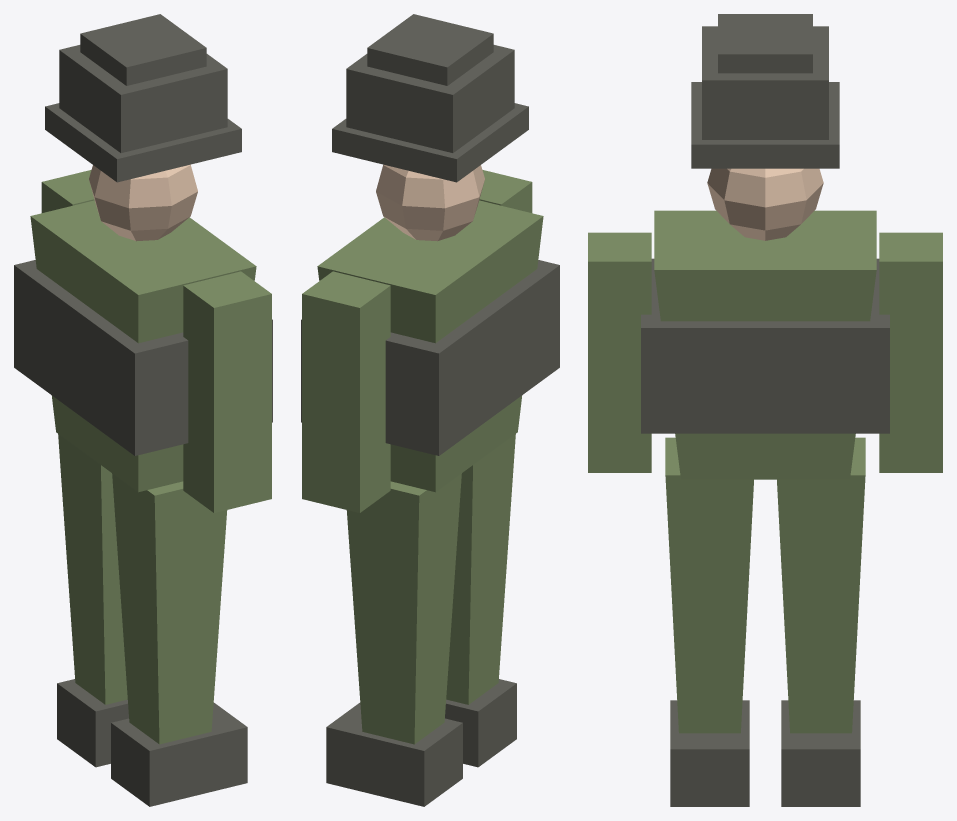
File: unit_rifleman.glb
The picture shows the model from 3 angles, left to right: view 1: azimuth 30°, elevation 25°; view 2: azimuth 150°, elevation 25°; view 3: azimuth 270°, elevation 25°; orthographic projection. The views are drawn at different scales.
Parts seen in each view (by area): view 1: Rifleman, accent_upper_Rifleman, upper_Rifleman, accent_Rifleman, skin_upper_Rifleman; view 2: Rifleman, accent_upper_Rifleman, upper_Rifleman, accent_Rifleman, skin_upper_Rifleman; view 3: Rifleman, accent_upper_Rifleman, upper_Rifleman, accent_Rifleman, skin_upper_Rifleman.
Part boxes in pixels (x1=…): Rifleman: x1=30, y1=200, x2=256, y2=744; accent_upper_Rifleman: x1=14, y1=14, x2=272, y2=455; upper_Rifleman: x1=41, y1=170, x2=271, y2=512; accent_Rifleman: x1=57, y1=679, x2=247, y2=806; skin_upper_Rifleman: x1=89, y1=164, x2=197, y2=241; Rifleman: x1=317, y1=200, x2=543, y2=744; accent_upper_Rifleman: x1=301, y1=14, x2=559, y2=455; upper_Rifleman: x1=302, y1=170, x2=532, y2=512; accent_Rifleman: x1=326, y1=679, x2=516, y2=806; skin_upper_Rifleman: x1=376, y1=164, x2=484, y2=241; Rifleman: x1=654, y1=210, x2=876, y2=733; accent_upper_Rifleman: x1=641, y1=14, x2=889, y2=433; upper_Rifleman: x1=588, y1=232, x2=942, y2=472; accent_Rifleman: x1=670, y1=700, x2=860, y2=806; skin_upper_Rifleman: x1=707, y1=168, x2=823, y2=240.
Size of the model in its own units: 0.31 by 1.55 by 0.67.
